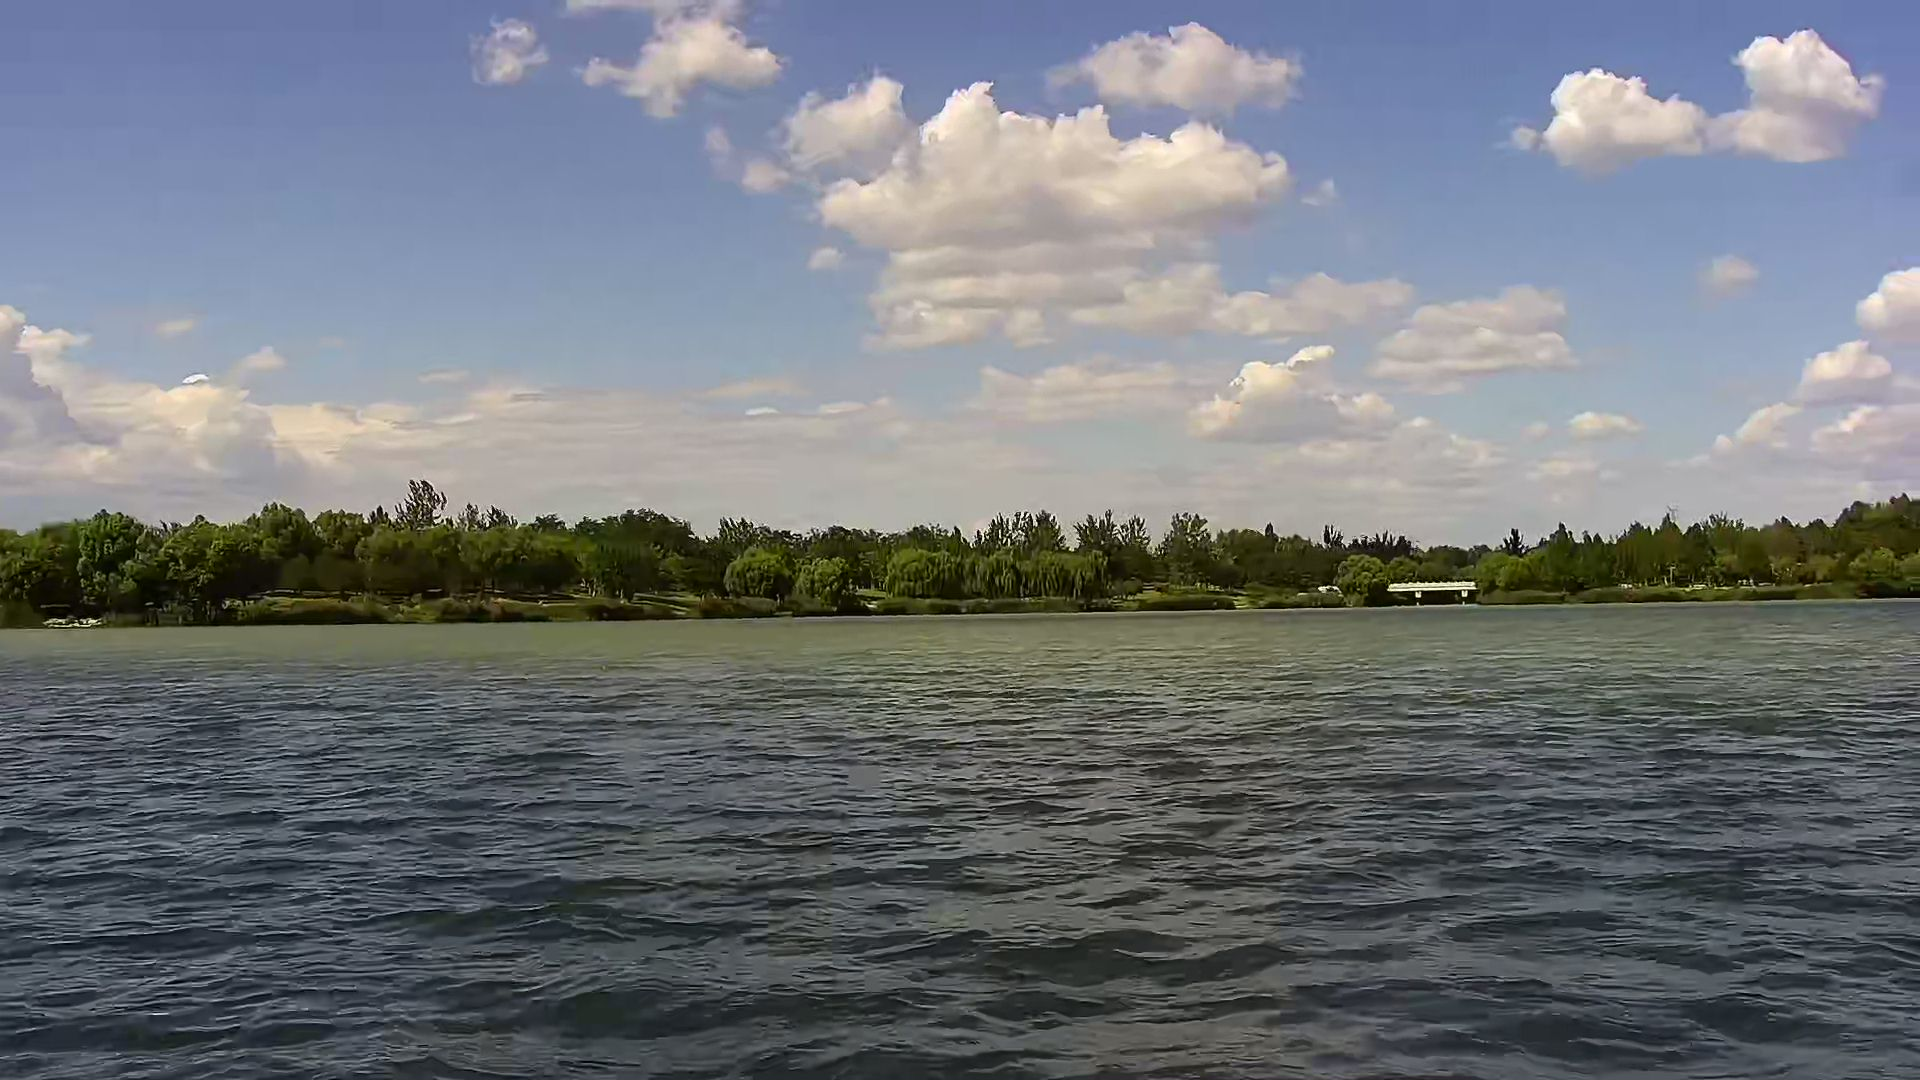bridge: (1385, 579, 1474, 608)
